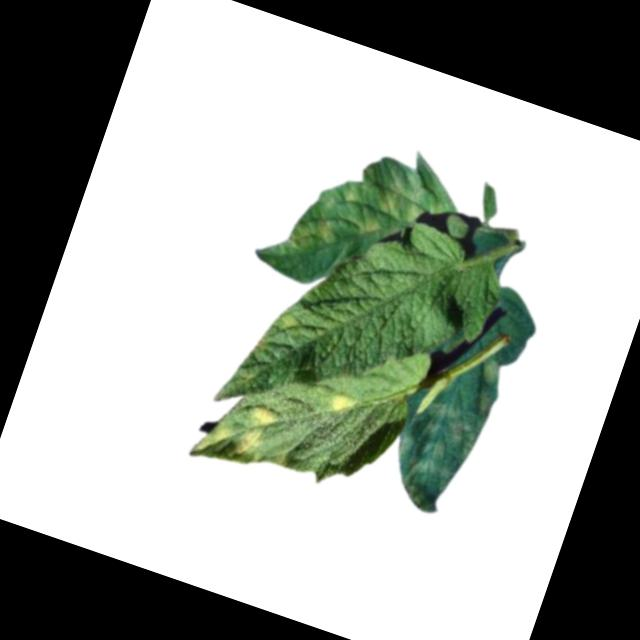Leaf_Mold: (279, 137, 455, 294), (378, 339, 509, 523), (188, 385, 285, 481), (272, 307, 314, 347), (327, 385, 362, 419)
